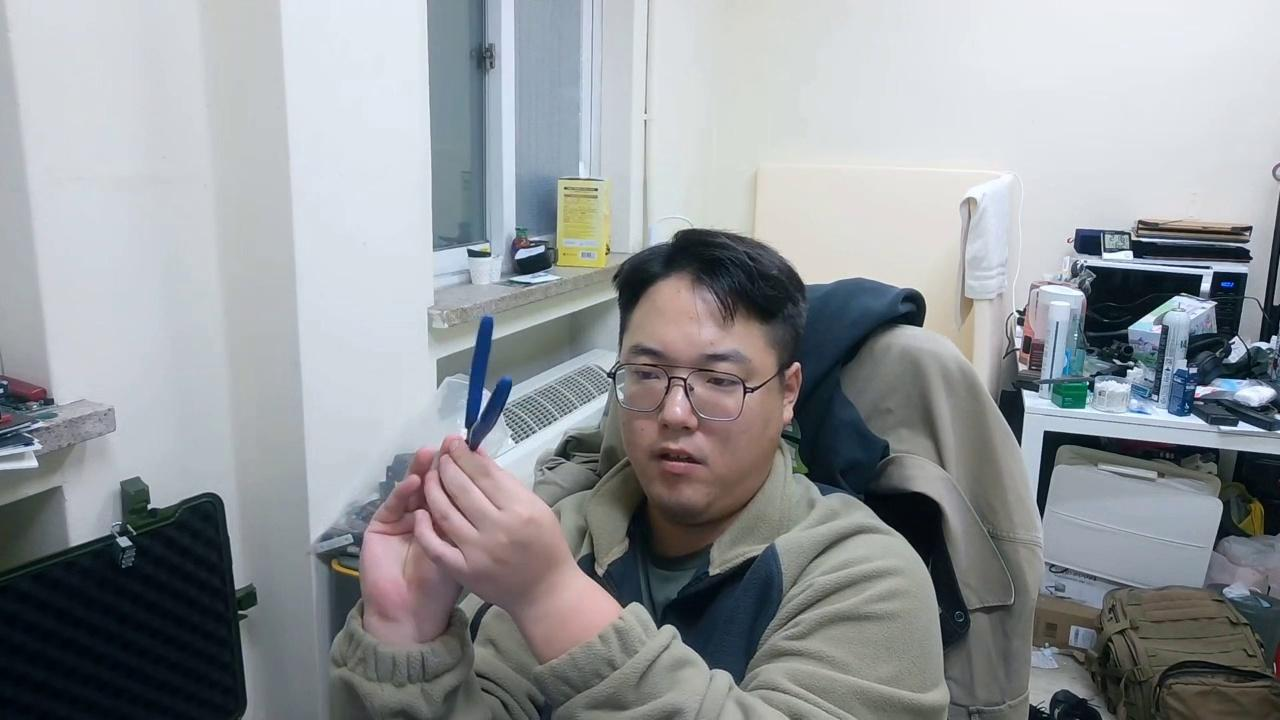blue_pliers: (461, 314, 514, 454)
